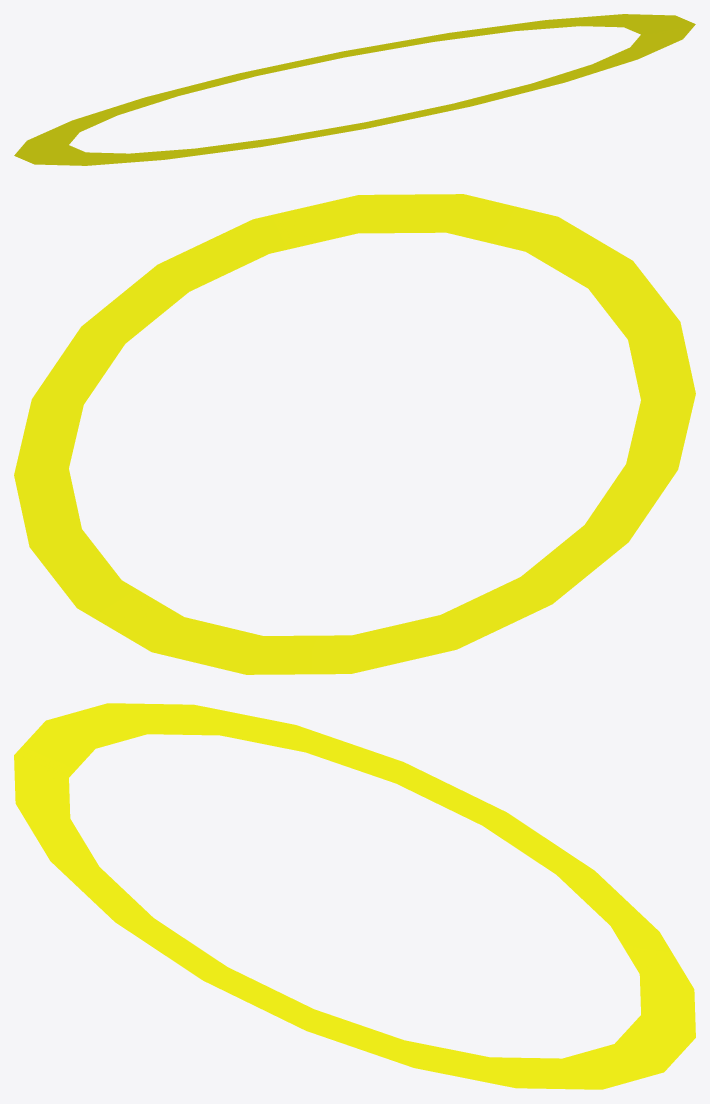
The model's file is RadialPulse.fbx.
3 views of the same model, one above another, from view 1: azimuth 30°, elevation 25°; view 2: azimuth 150°, elevation 25°; view 3: azimuth 270°, elevation 25° (orthographic). The views are drawn at different scales.
Parts seen in each view (by area): view 1: CircleGeo; view 2: CircleGeo; view 3: CircleGeo.
Part boxes in pixels (left/top/right/bottom): CircleGeo: left=14, top=14, right=695, bottom=165; CircleGeo: left=14, top=194, right=695, bottom=674; CircleGeo: left=14, top=703, right=695, bottom=1089.
Bounding box in the file's own units: 14.54 × 5.23 × 13.57.
